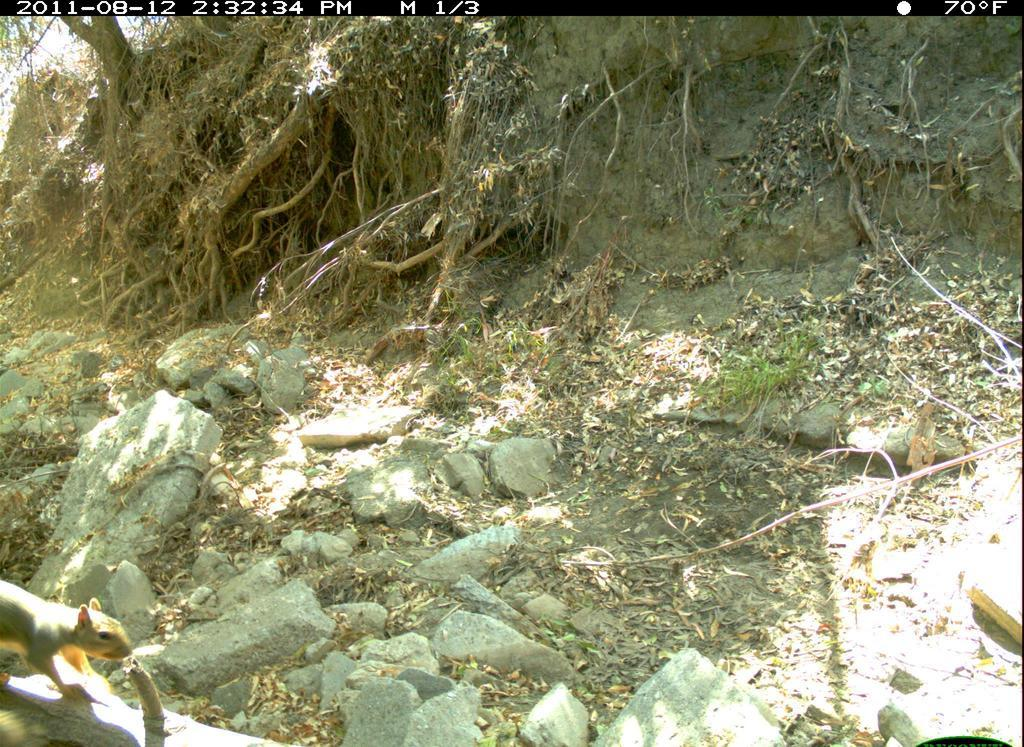squirrel: (4, 569, 147, 713)
